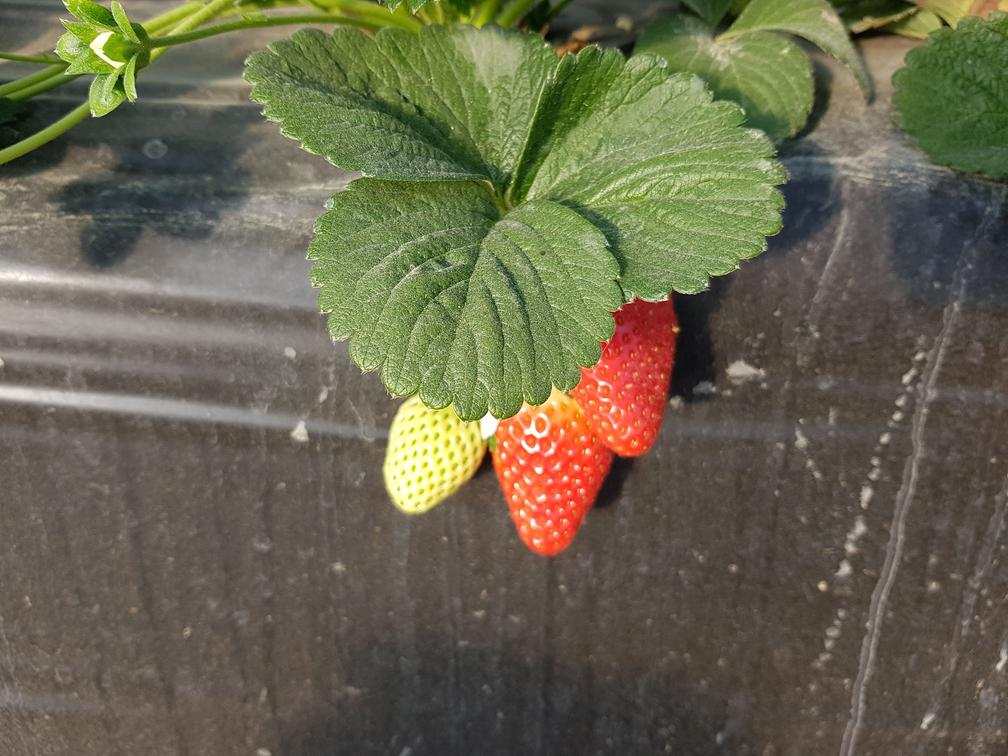Ripe: (576, 309, 683, 460), (495, 424, 610, 557)
Unripe: (380, 396, 469, 518)
